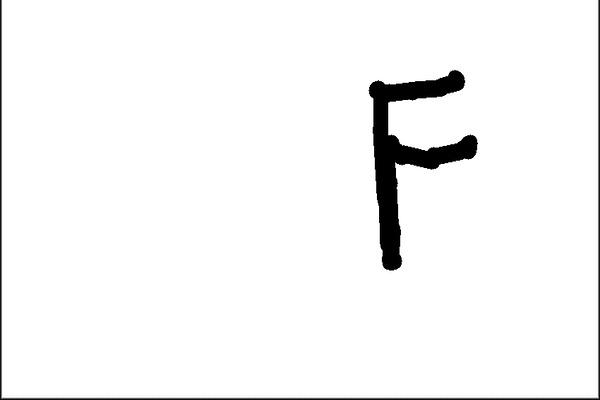F: (364, 67, 483, 274)
